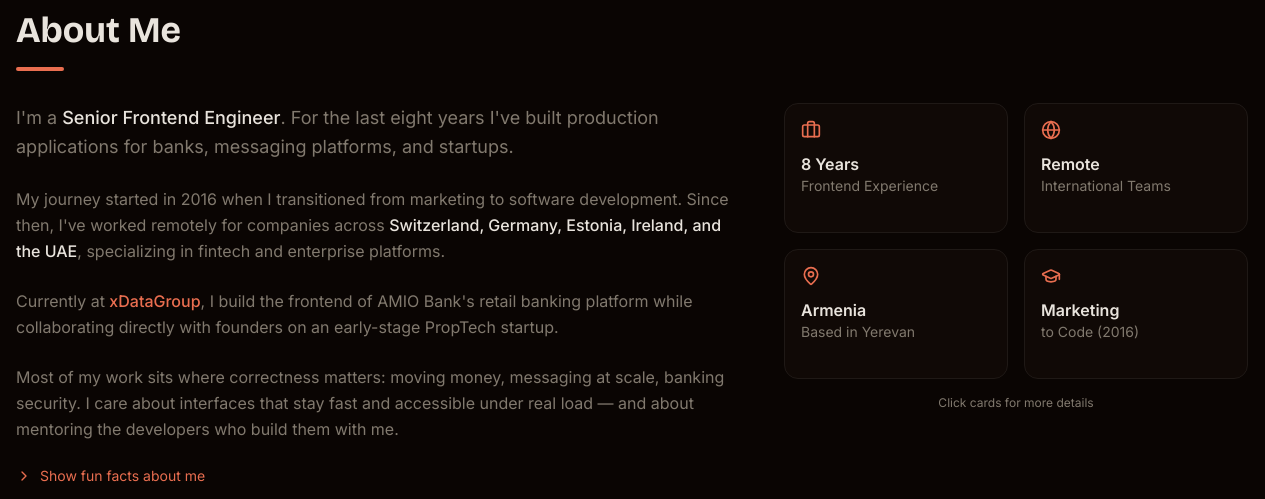
it: About Section › expands card on click and shows detail
This screenshot has width=1265, height=499.
Expected: the text "8 Years" is shown, left=801, top=154, right=859, bottom=174
Step 1. Click the text "8 Years" → (896, 168), box left=784, top=103, right=1008, bottom=233
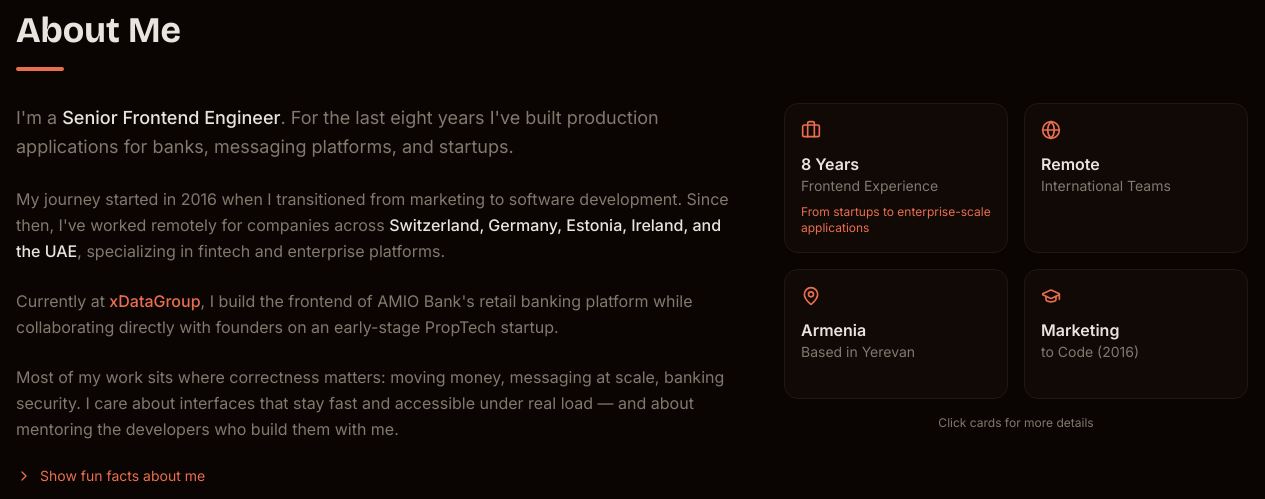
Result: the text "From startups to enterprise-scale applications" is shown at left=801, top=204, right=991, bottom=236
